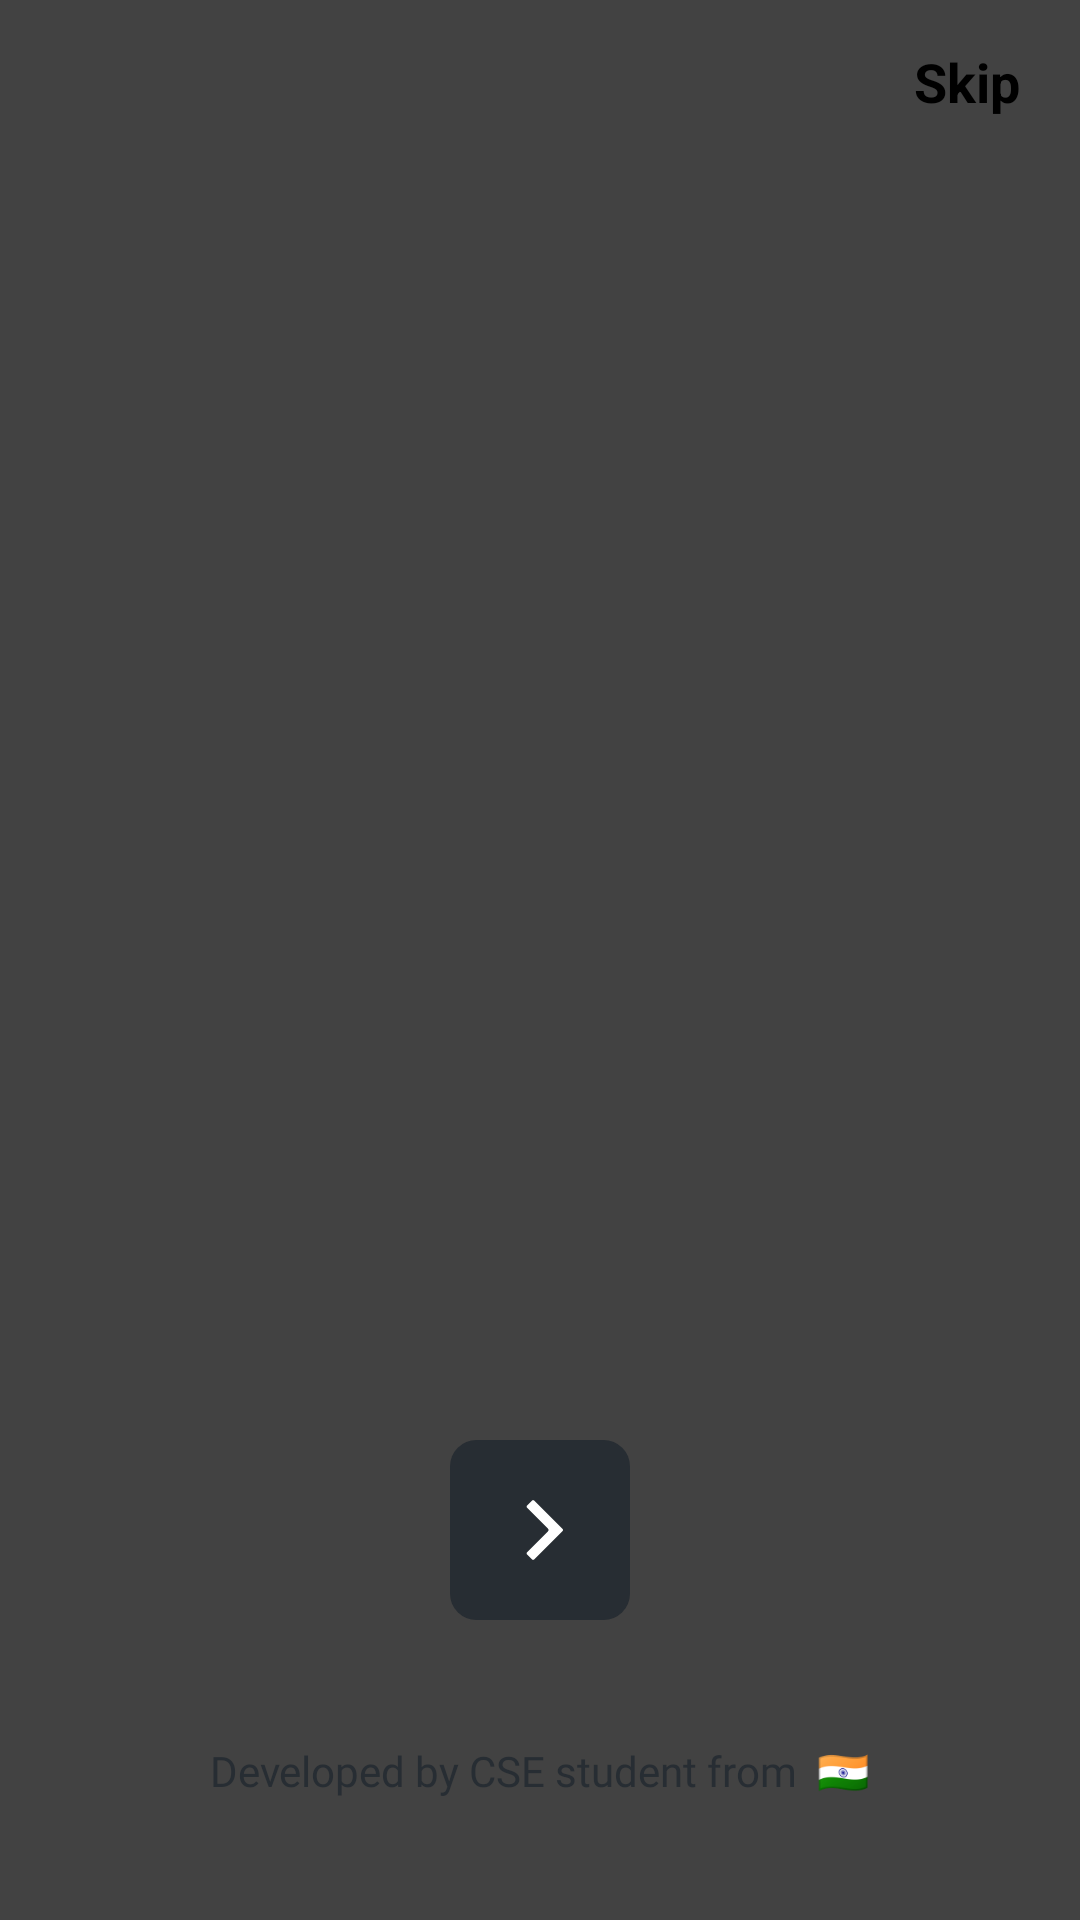

Screen size 1080*1920. Icon name, then its center in pixels as (x=x, y=y):
next: (x=540, y=1530)
